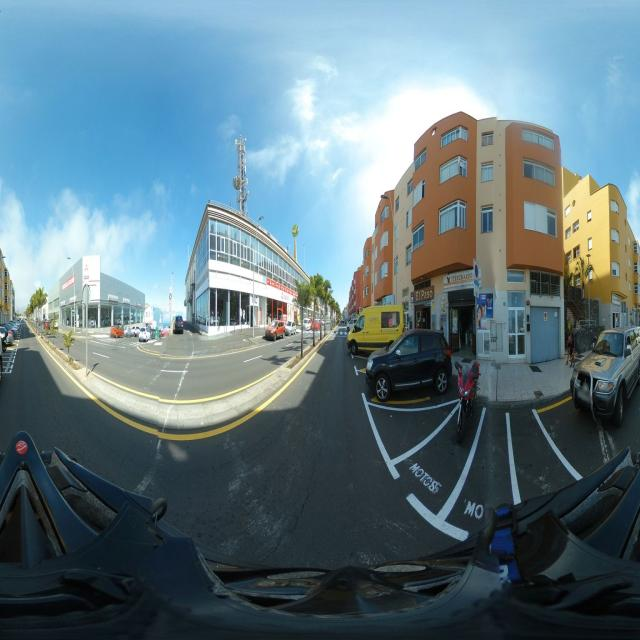bike: (452, 352, 482, 441)
car: (571, 327, 640, 428), (365, 328, 453, 403), (572, 319, 604, 354), (264, 321, 280, 341), (172, 315, 185, 334), (109, 323, 124, 339), (285, 321, 296, 336)
